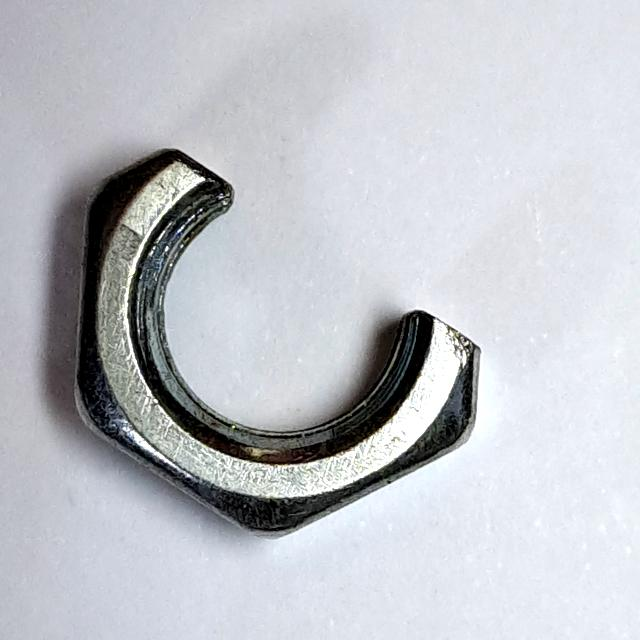Fracture: (55, 130, 507, 553)
